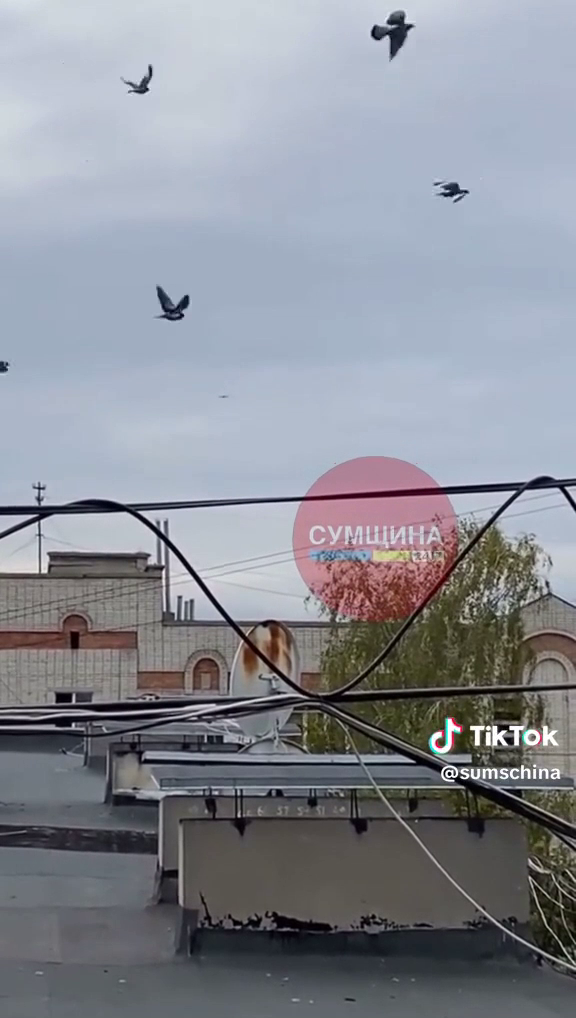not_drone: (366, 6, 418, 68), (150, 280, 192, 325), (428, 172, 472, 207)
